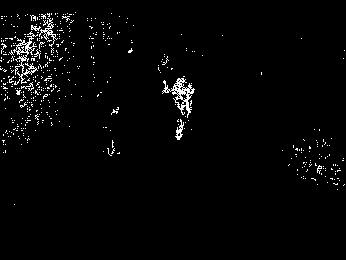person: (169, 74, 199, 142)
